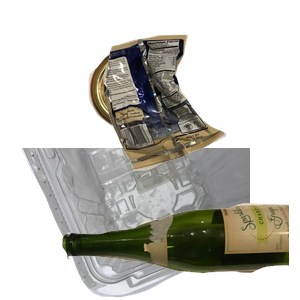glass: (60, 201, 300, 300)
metal: (86, 46, 248, 169)
plastic: (19, 148, 259, 300)
trash: (101, 32, 300, 195)
